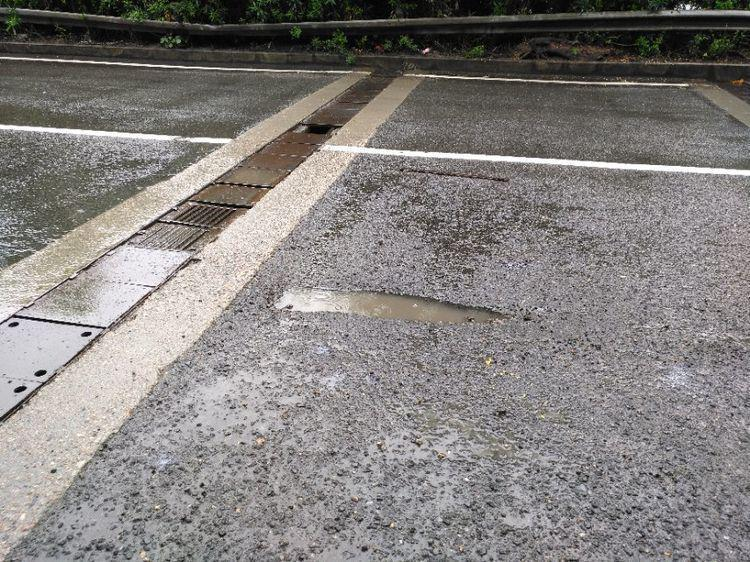pothole: (268, 283, 526, 330), (288, 119, 343, 138)
